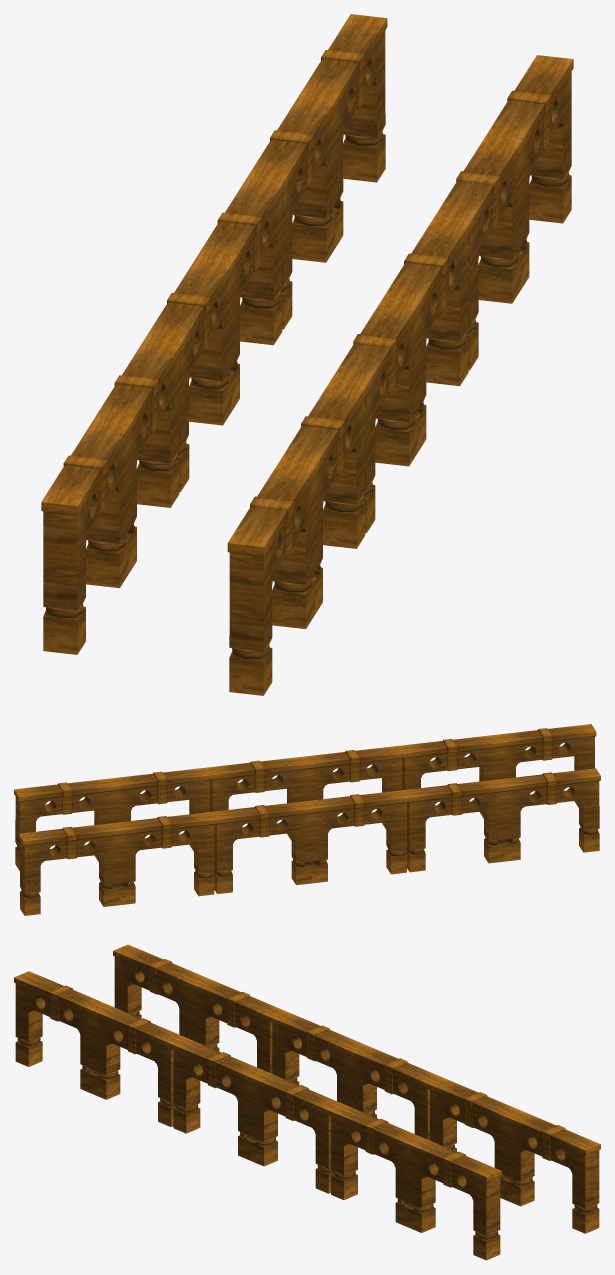
The model's file is walls.DAE.
3 renders of one model, top to bottom at view 1: azimuth 30°, elevation 25°; view 2: azimuth 150°, elevation 25°; view 3: azimuth 270°, elevation 25°, orthographic. The views are drawn at different scales.
Visible parts, largest first — view 1: Line078, Line077, Line075, Line079, Line080, Line076; view 2: Line075, Line077, Line076, Line080, Line079, Line078; view 3: Line080, Line075, Line078, Line079, Line077, Line076.
Boxes of the visible parts, bbox=[...] form: Line078: bbox=[227, 380, 367, 695]; Line077: bbox=[41, 339, 180, 654]; Line075: bbox=[248, 14, 387, 329]; Line079: bbox=[331, 218, 470, 533]; Line080: bbox=[434, 55, 573, 370]; Line076: bbox=[144, 177, 284, 492]; Line075: bbox=[18, 812, 215, 915]; Line077: bbox=[404, 768, 600, 872]; Line076: bbox=[211, 790, 408, 893]; Line080: bbox=[14, 767, 211, 870]; Line079: bbox=[207, 746, 403, 840]; Line078: bbox=[399, 724, 596, 818]; Line080: bbox=[329, 1104, 501, 1260]; Line075: bbox=[428, 1077, 600, 1233]; Line078: bbox=[14, 971, 186, 1126]; Line079: bbox=[171, 1038, 343, 1193]; Line077: bbox=[113, 944, 285, 1073]; Line076: bbox=[270, 1011, 442, 1140].
Size of the model in its own units: 19.1 by 20.35 by 3.24.
1 material, 1 textured.
